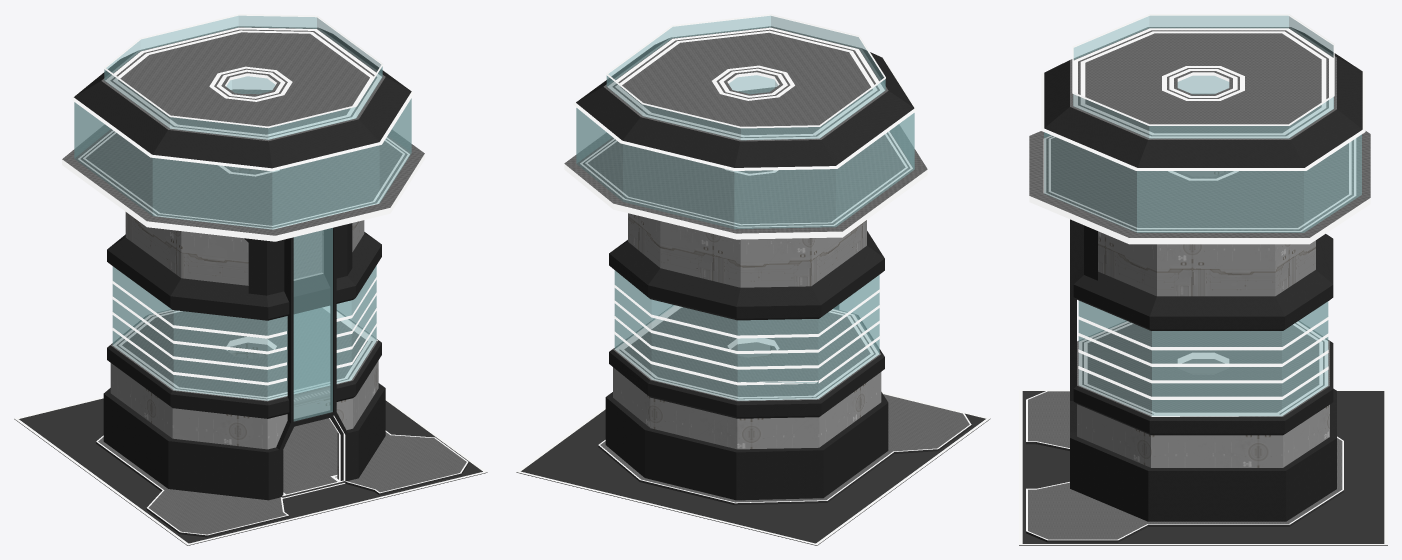
The model's file is Dhingia Builds 11 Size 1x1.glb.
3 renders of one model, left to right at view 1: azimuth 30°, elevation 25°; view 2: azimuth 150°, elevation 25°; view 3: azimuth 270°, elevation 25°, orthographic. The views are drawn at different scales.
Parts seen in each view (by area): view 1: Glass, Difference.004, Mesh_2.001, Mesh_3, Difference.002, Mesh_10, Mesh_0, Difference, Mesh_2, Difference.001, Mesh_11, Mesh_6 (+2 smaller); view 2: Glass, Difference.004, Mesh_3, Mesh_2.001, Difference.002, Mesh_0, Mesh_2, Difference, Mesh_10, Difference.001, Mesh_11, Glass.001; view 3: Glass, Difference.004, Mesh_3, Mesh_2.001, Difference.002, Mesh_0, Mesh_2, Difference, Mesh_10, Difference.001, Mesh_11, Glass.001 (+1 smaller).
Part boxes in pixels (x1,y1,x2,y2): Glass: [74, 15, 411, 421]; Difference.004: [71, 26, 414, 171]; Mesh_2.001: [62, 89, 424, 241]; Mesh_3: [110, 306, 378, 479]; Difference.002: [103, 227, 385, 500]; Mesh_10: [96, 418, 468, 537]; Mesh_0: [14, 397, 487, 545]; Difference: [107, 232, 381, 320]; Mesh_2: [125, 166, 364, 285]; Difference.001: [107, 321, 381, 418]; Mesh_11: [112, 276, 377, 385]; Mesh_6: [244, 223, 352, 295]; Glass: [576, 15, 914, 400]; Difference.004: [573, 26, 917, 170]; Mesh_3: [613, 305, 881, 449]; Mesh_2.001: [564, 87, 927, 239]; Difference.002: [605, 305, 888, 500]; Mesh_0: [516, 392, 990, 545]; Mesh_2: [628, 170, 866, 287]; Difference: [609, 231, 884, 320]; Mesh_10: [598, 393, 971, 505]; Difference.001: [609, 315, 884, 418]; Mesh_11: [614, 284, 880, 385]; Glass.001: [606, 14, 885, 128]; Glass: [1044, 15, 1361, 416]; Difference.004: [1041, 27, 1365, 170]; Mesh_3: [1077, 321, 1329, 467]; Mesh_2.001: [1029, 93, 1370, 244]; Difference.002: [1070, 219, 1336, 521]; Mesh_0: [1019, 389, 1387, 545]; Mesh_2: [1098, 171, 1315, 296]; Difference: [1073, 234, 1333, 330]; Mesh_10: [1026, 390, 1343, 542]; Difference.001: [1073, 340, 1333, 435]; Mesh_11: [1078, 316, 1328, 399]; Glass.001: [1072, 14, 1334, 125].
Size of what is drawn, in the model's own units: 16 by 19.09 by 16.
7 materials, 3 textured.
